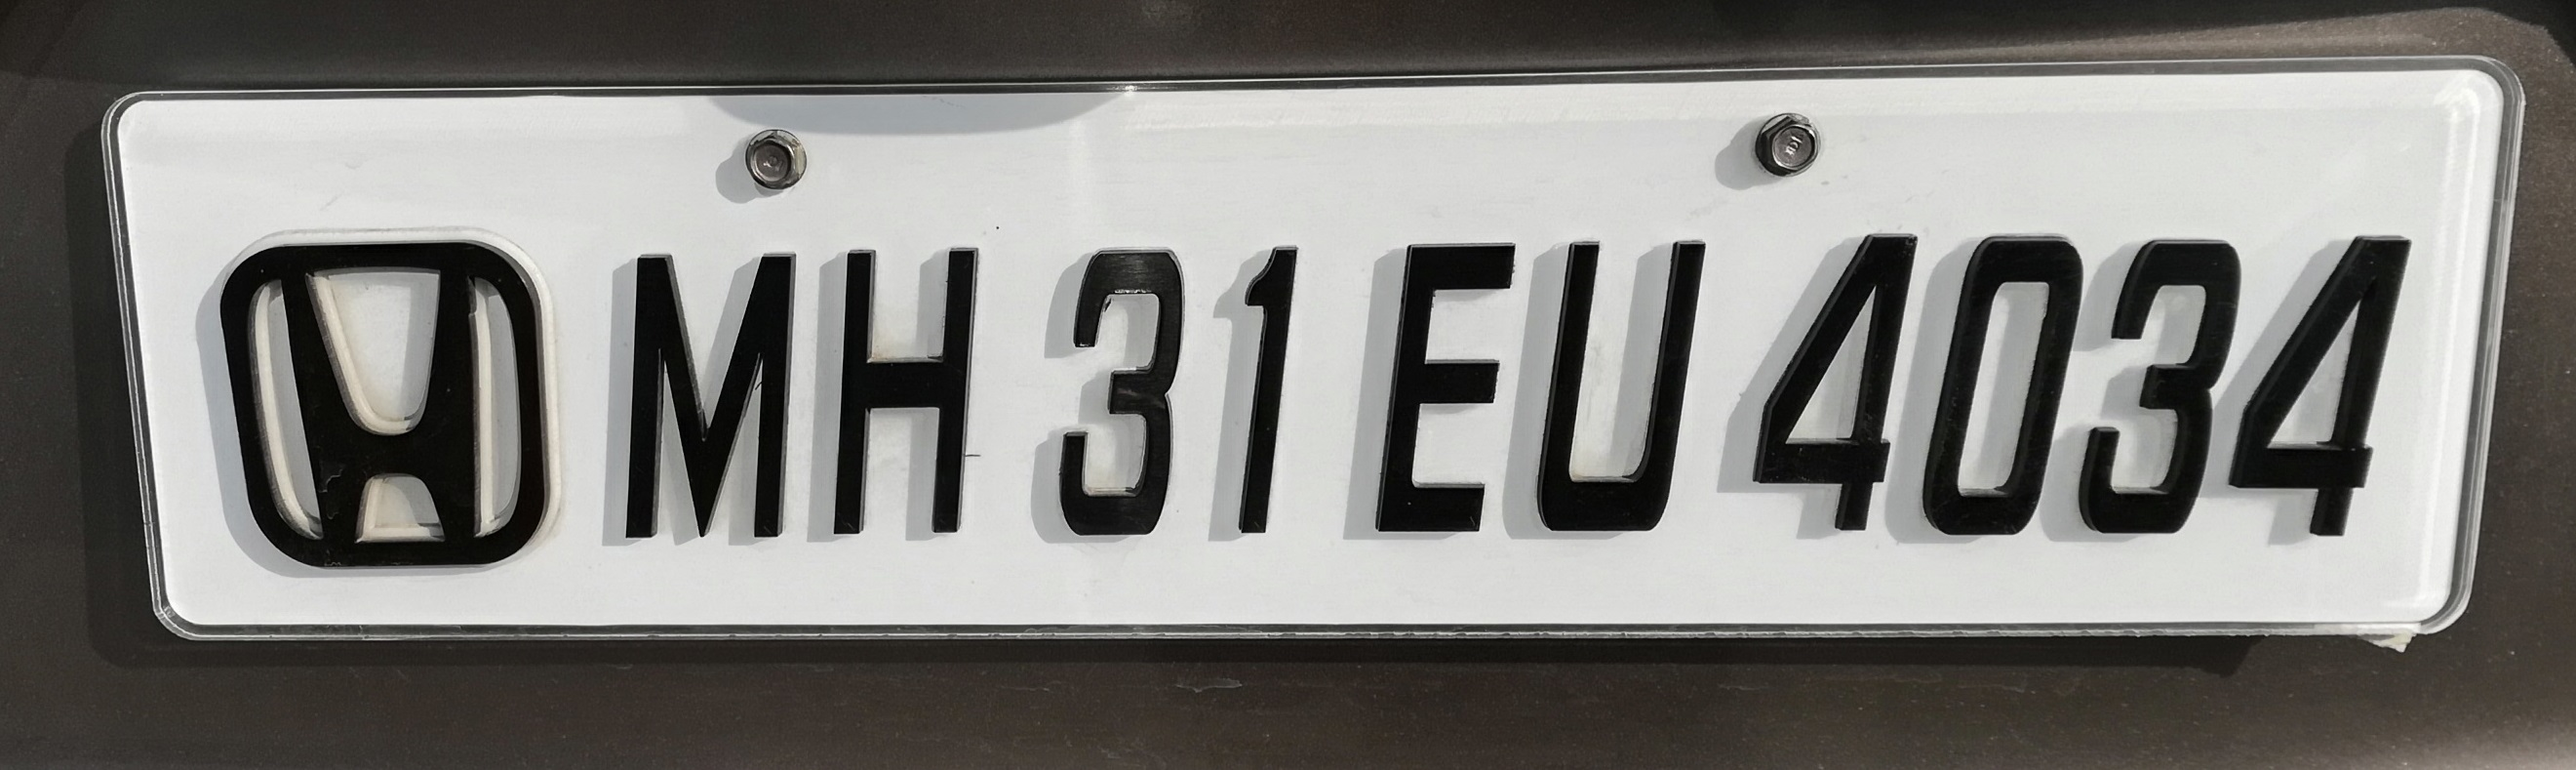numberplate: (96, 56, 2512, 652)
